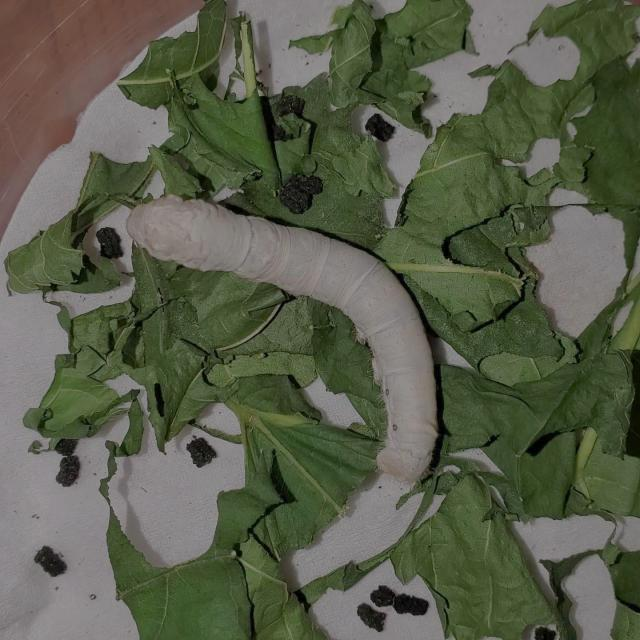Healthy: (123, 189, 447, 484)
